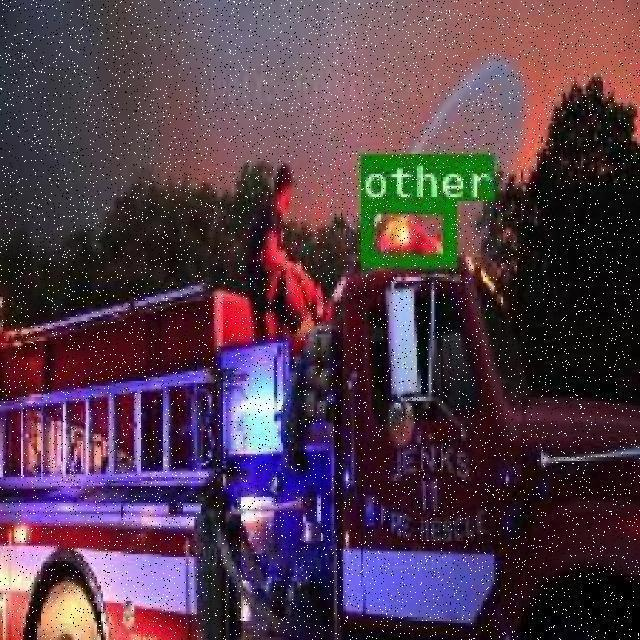Smoke: (360, 200, 452, 266)
